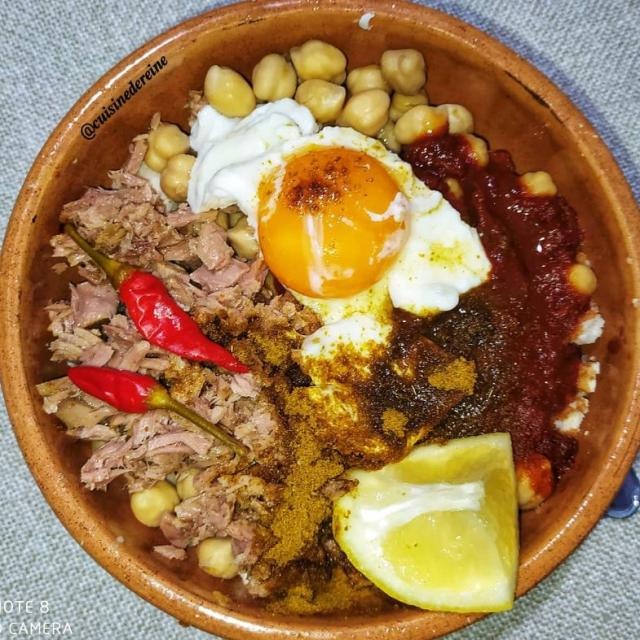Lablabi: (36, 51, 598, 612)
